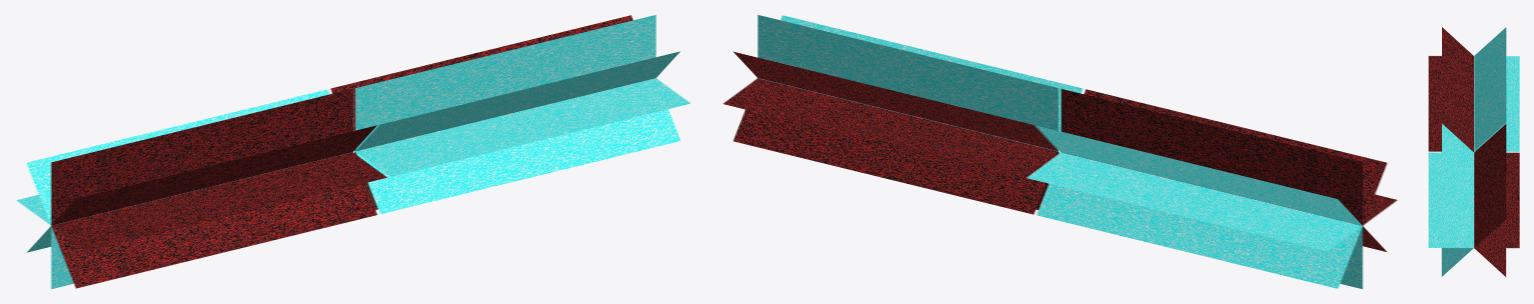
3 views of the same model, side by side, from view 1: azimuth 30°, elevation 25°; view 2: azimuth 150°, elevation 25°; view 3: azimuth 270°, elevation 25° (orthographic). The views are drawn at different scales.
Visible parts, largest first — view 1: SM_VFX_HundredUnitCruciform_LOD0; view 2: SM_VFX_HundredUnitCruciform_LOD0; view 3: SM_VFX_HundredUnitCruciform_LOD0.
Part boxes in pixels (x1,y1,x2,y2): SM_VFX_HundredUnitCruciform_LOD0: (16, 15, 690, 288); SM_VFX_HundredUnitCruciform_LOD0: (723, 15, 1397, 288); SM_VFX_HundredUnitCruciform_LOD0: (1428, 27, 1519, 276).
Size of the model in its own units: 0.9982 by 0.2 by 0.2.
Materials: 1 (1 with a texture image).
